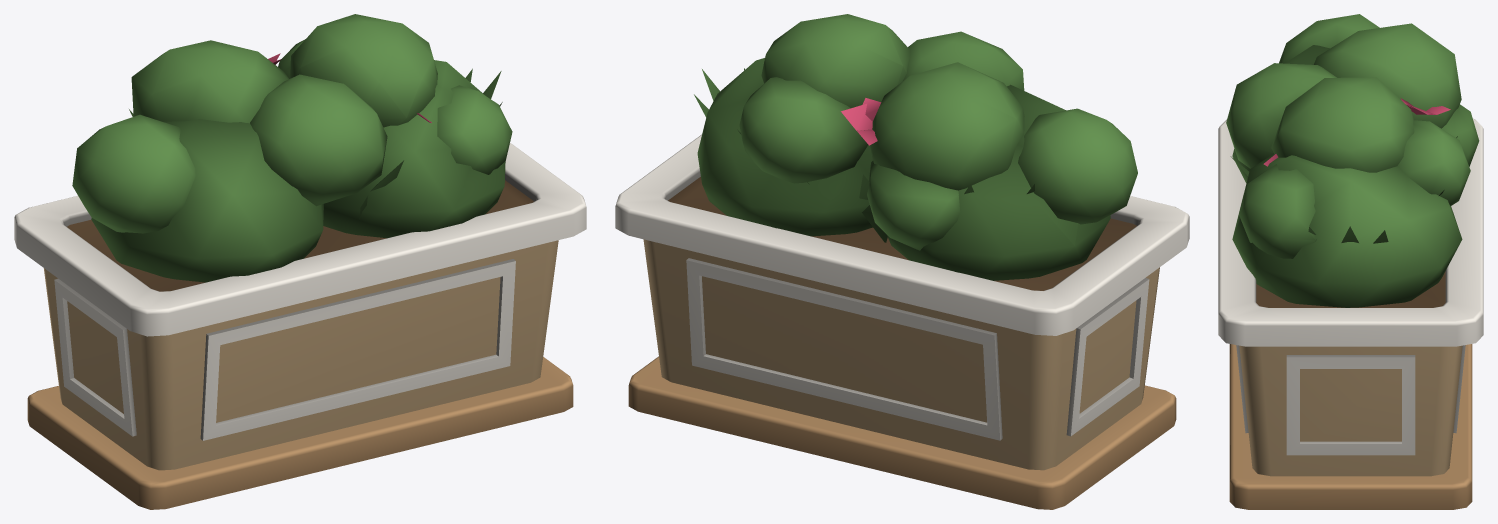
File: planter_box.fbx
3 views of the same model, side by side, from view 1: azimuth 30°, elevation 25°; view 2: azimuth 150°, elevation 25°; view 3: azimuth 270°, elevation 25° (orthographic). The views are drawn at different scales.
Visible parts, largest first — view 1: planter_box; view 2: planter_box; view 3: planter_box.
Boxes of the visible parts, bbox=[...] form: planter_box: bbox=[14, 14, 586, 509]; planter_box: bbox=[615, 14, 1189, 509]; planter_box: bbox=[1218, 14, 1483, 509].
Size of the model in its own units: 1.3 by 1.03 by 0.7.
